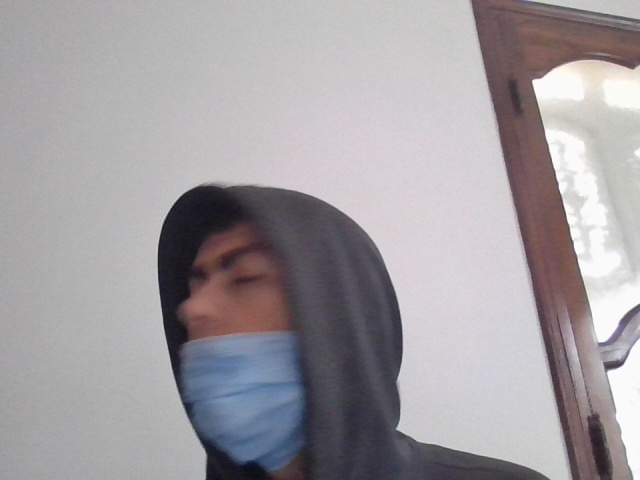mask_weared_incorrect: (164, 212, 336, 470)
